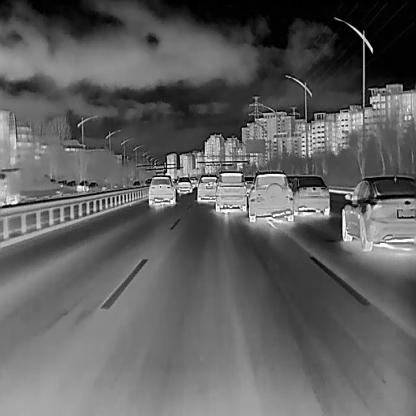car: (340, 175, 416, 251), (246, 169, 292, 221), (288, 173, 330, 215), (214, 169, 248, 212), (146, 174, 176, 206), (196, 172, 218, 202), (176, 174, 192, 193), (85, 180, 99, 192), (77, 179, 89, 191), (189, 174, 198, 188), (143, 176, 153, 187), (130, 179, 142, 187)
